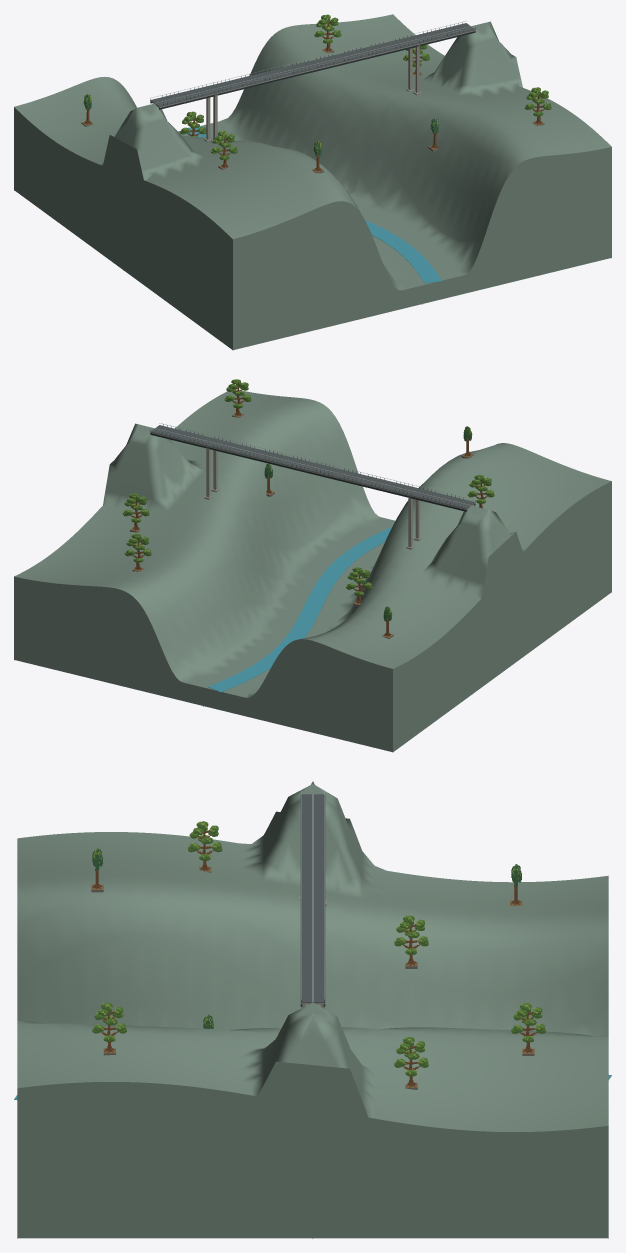
Rendered from visual-far.glb.
3 renders of one model, top to bottom at view 1: azimuth 30°, elevation 25°; view 2: azimuth 150°, elevation 25°; view 3: azimuth 270°, elevation 25°, orthographic. The views are drawn at different scales.
Parts seen in each view (by area): view 1: 连续岩土实体与最小原生岩块 (×4), 分层路床、承梁、支座和实墩, 既有量化乔木树干与错层冠母版 (×3), 连续水体表面与真实米制流向; view 2: 连续岩土实体与最小原生岩块 (×4), 分层路床、承梁、支座和实墩, 连续水体表面与真实米制流向, 既有量化乔木树干与错层冠母版 (×4); view 3: 连续岩土实体与最小原生岩块 (×4), 分层路床、承梁、支座和实墩, 既有量化乔木树干与错层冠母版 (×5).
Part boxes in pixels (<box>): 连续岩土实体与最小原生岩块 (×4): <box>14,14,611,350</box>; 分层路床、承梁、支座和实墩: <box>150,21,475,143</box>; 既有量化乔木树干与错层冠母版 (×3): <box>211,14,551,168</box>; 连续水体表面与真实米制流向: <box>187,126,441,283</box>; 连续岩土实体与最小原生岩块 (×4): <box>14,389,611,752</box>; 分层路床、承梁、支座和实墩: <box>150,423,475,549</box>; 连续水体表面与真实米制流向: <box>208,527,391,692</box>; 既有量化乔木树干与错层冠母版 (×4): <box>122,379,372,604</box>; 连续岩土实体与最小原生岩块 (×4): <box>17,781,608,1238</box>; 分层路床、承梁、支座和实墩: <box>299,791,326,1008</box>; 既有量化乔木树干与错层冠母版 (×5): <box>92,821,545,1086</box>.
Bounding box in the file's own units: 192 × 78.29 × 194.
Materials: 15 (14 with a texture image).
